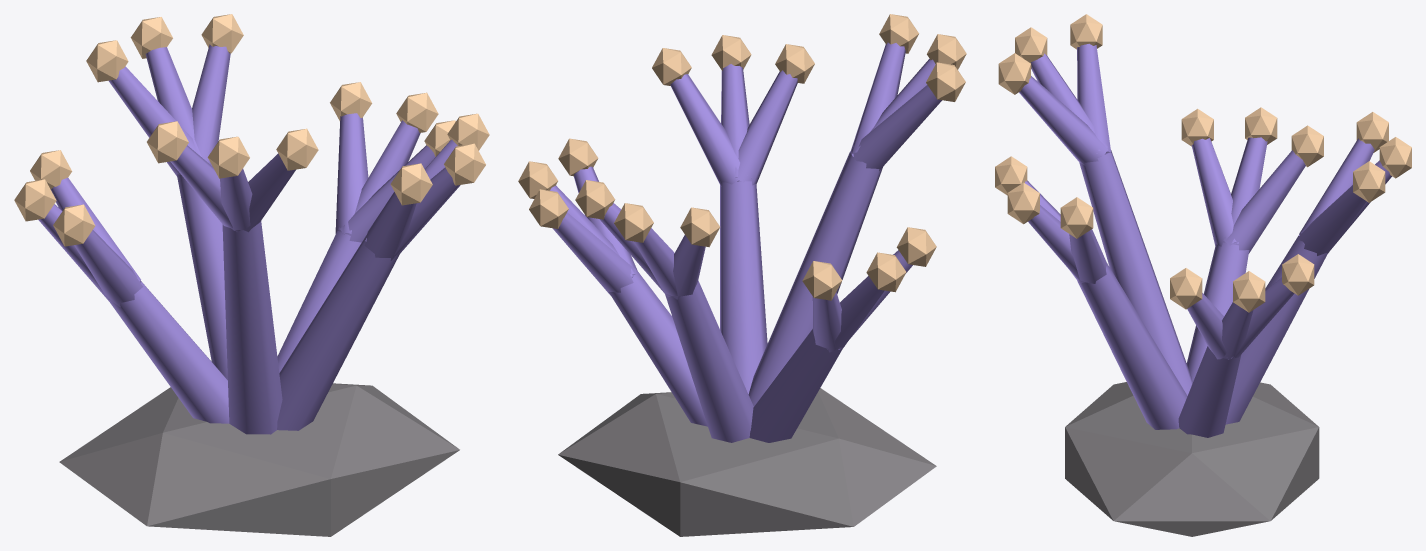
Rendered from ocean-scenery-6.glb.
The picture shows the model from 3 angles, left to right: view 1: azimuth 30°, elevation 25°; view 2: azimuth 150°, elevation 25°; view 3: azimuth 270°, elevation 25°; orthographic projection. The views are drawn at different scales.
Parts seen in each view (by area): view 1: Branching ocean coral; view 2: Branching ocean coral; view 3: Branching ocean coral.
Boxes of the visible parts, <box> form: Branching ocean coral: <box>14,14,489,536</box>; Branching ocean coral: <box>518,14,966,536</box>; Branching ocean coral: <box>995,14,1411,536</box>.
Size of the model in its own units: 1.54 by 1.67 by 1.53.
